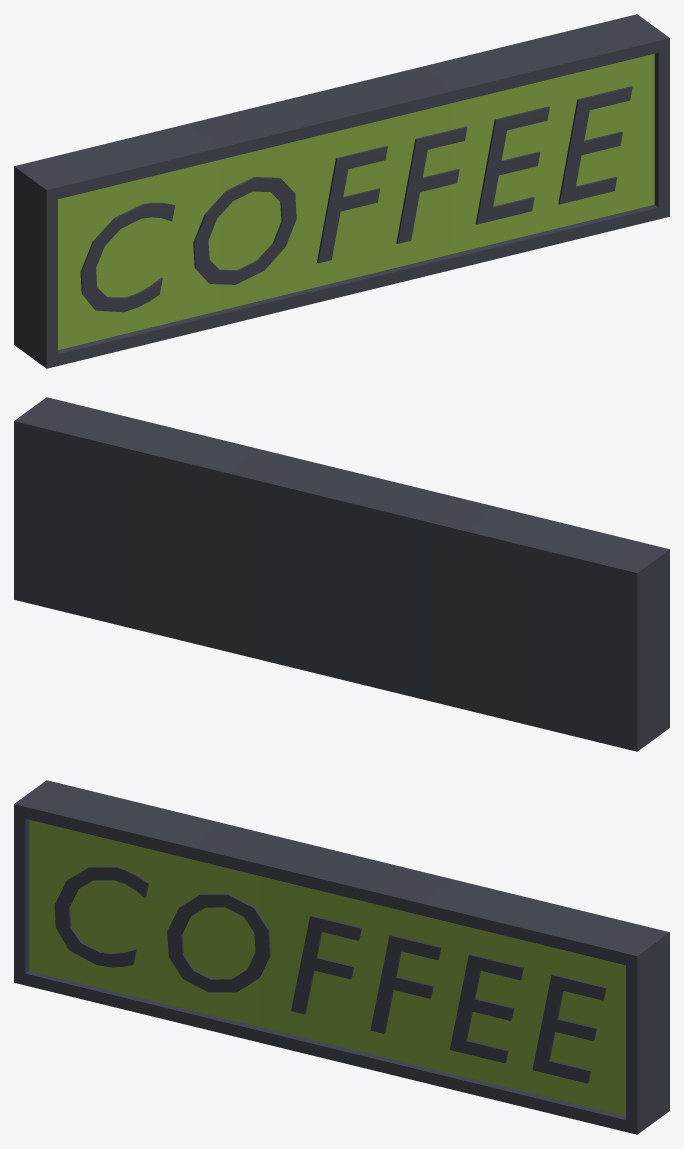
Rendered from Banner_13.fbx.
3 renders of one model, top to bottom at view 1: azimuth 30°, elevation 25°; view 2: azimuth 150°, elevation 25°; view 3: azimuth 330°, elevation 25°, orthographic.
Visible parts, largest first — view 1: Banner_13; view 2: Banner_13; view 3: Banner_13.
Part boxes in pixels (x1,y1,x2,y2): Banner_13: (14, 14, 669, 368); Banner_13: (14, 397, 669, 751); Banner_13: (14, 780, 669, 1134).
Bounding box in the file's own units: 3.08 × 0.8434 × 0.2801.
